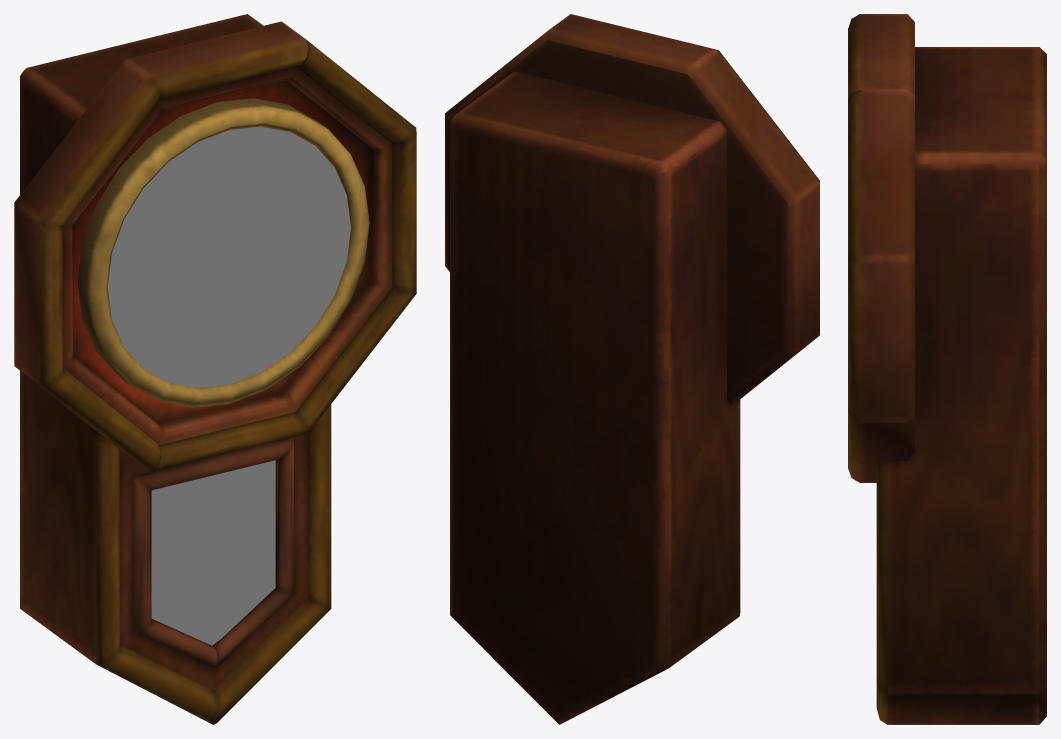
The picture shows the model from 3 angles, left to right: view 1: azimuth 30°, elevation 25°; view 2: azimuth 150°, elevation 25°; view 3: azimuth 270°, elevation 25°; orthographic projection. The views are drawn at different scales.
Parts seen in each view (by area): view 1: Dial_low__mBody, Glass_low__mGlass; view 2: Dial_low__mBody; view 3: Dial_low__mBody.
Boxes of the visible parts, <box> form: Dial_low__mBody: <box>14,14,416,724</box>; Glass_low__mGlass: <box>107,126,350,645</box>; Dial_low__mBody: <box>445,14,819,724</box>; Dial_low__mBody: <box>848,14,1046,724</box>.
Bounding box in the file's own units: 0.1455 × 0.2492 × 0.0667.
Materials: 2 (1 with a texture image).
